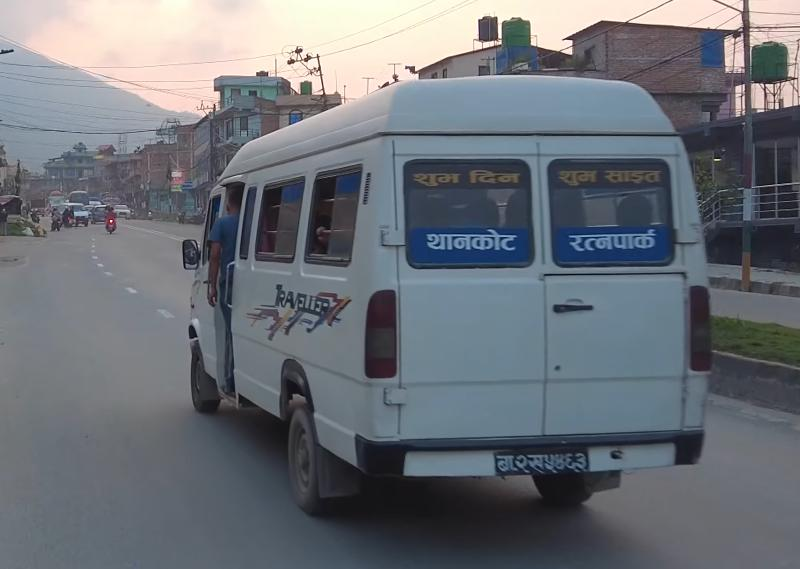micro_bus: (171, 69, 715, 517)
